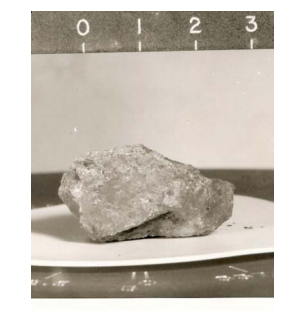Breccia: (44, 106, 227, 255)
